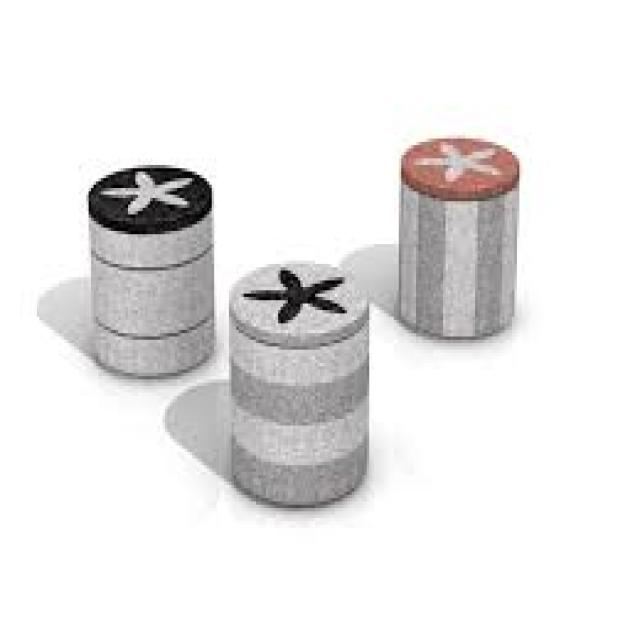bollard: (224, 237, 381, 509), (74, 153, 219, 383), (393, 123, 523, 354)
